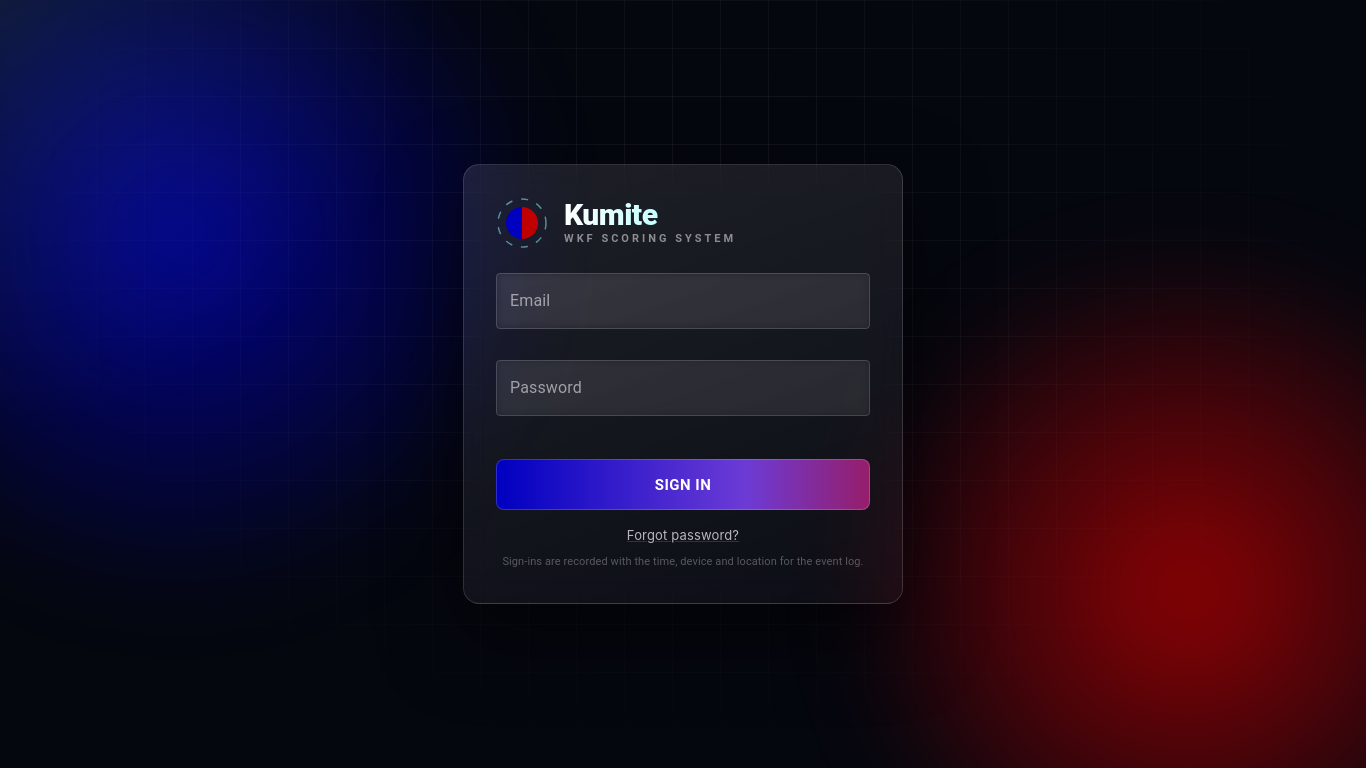
Login › says the server address is missing, not that the connection is down
The image size is (1366, 768).
In the field labelled "Email": (683, 301) [496,273,870,329], type "ref@club.test"
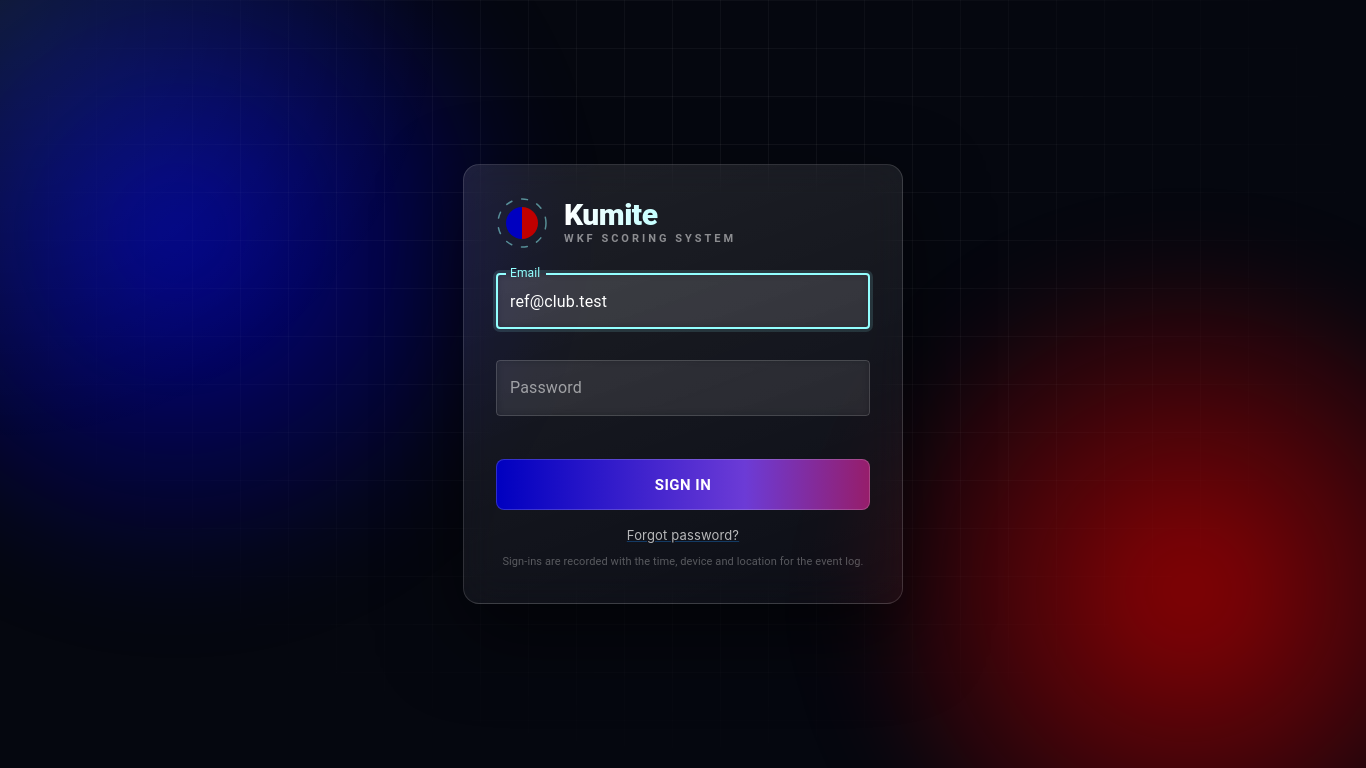
In the password field labelled "Password": (683, 388) [496,360,870,416], type "correct horse"
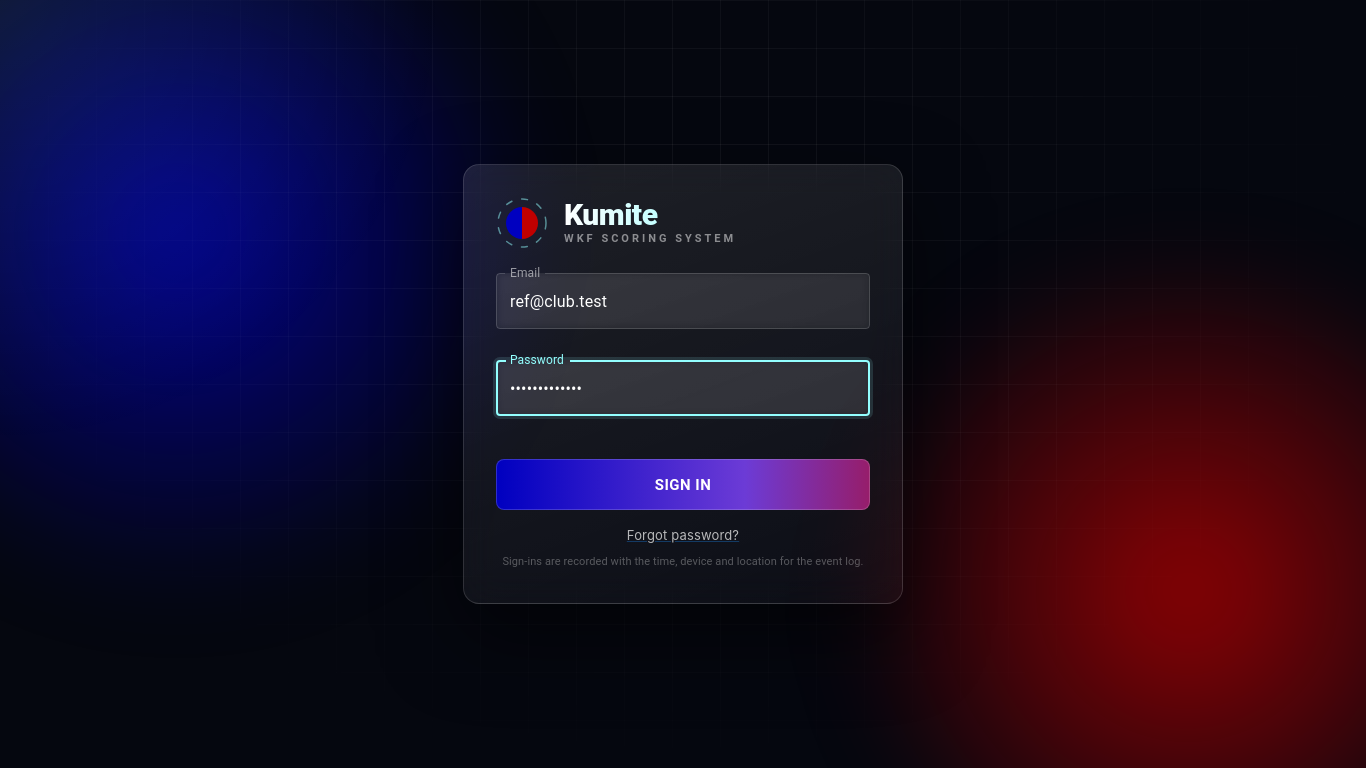
Click the button "Sign in": (683, 485) [496,459,870,510]
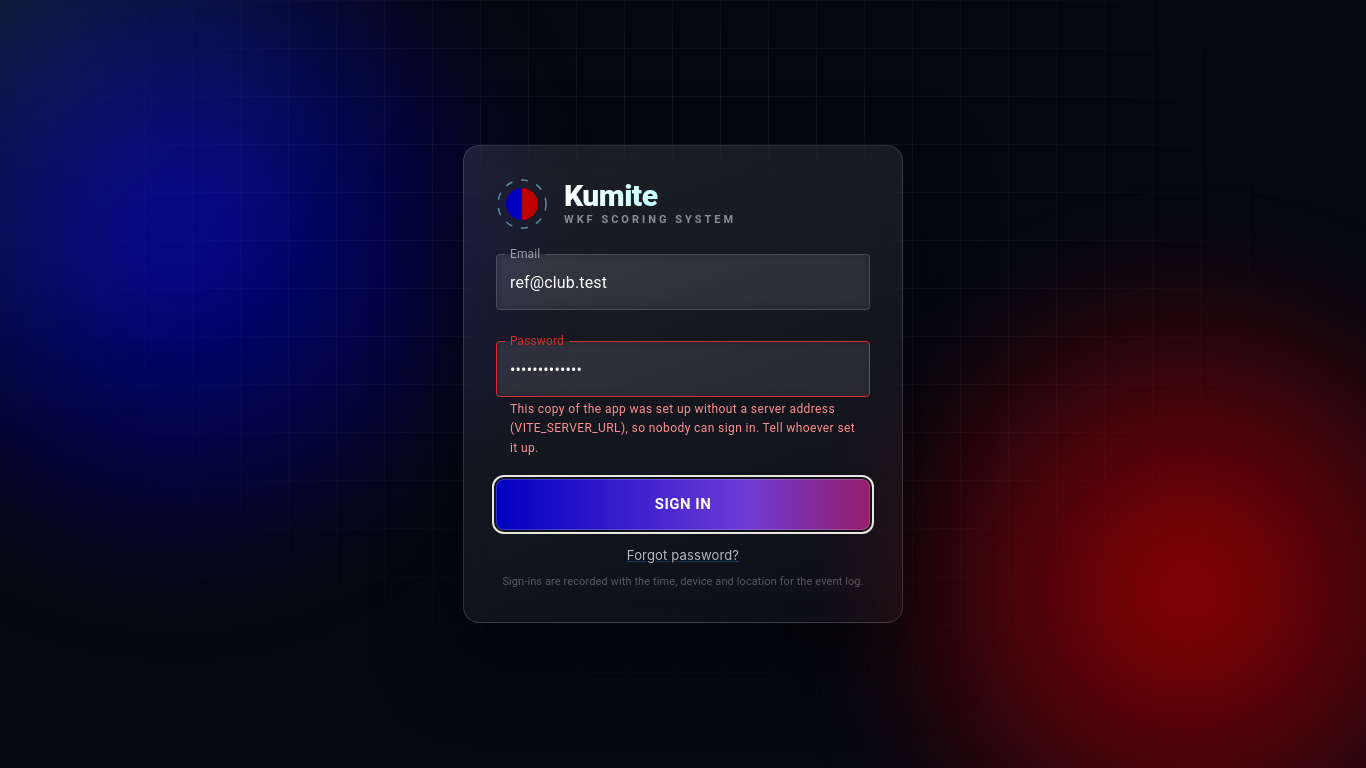
expect the text "set up without a server address (VITE_SERVER_URL)" is shown: met, box [510,402,855,455]
